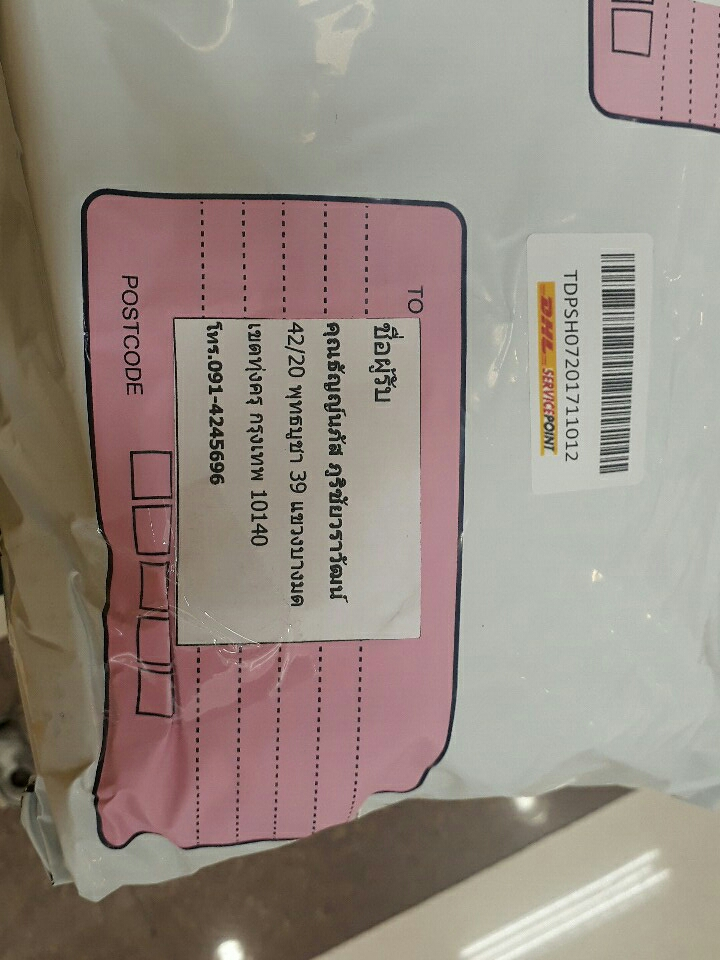ba: (514, 216, 663, 508)
txt: (197, 320, 410, 618)
